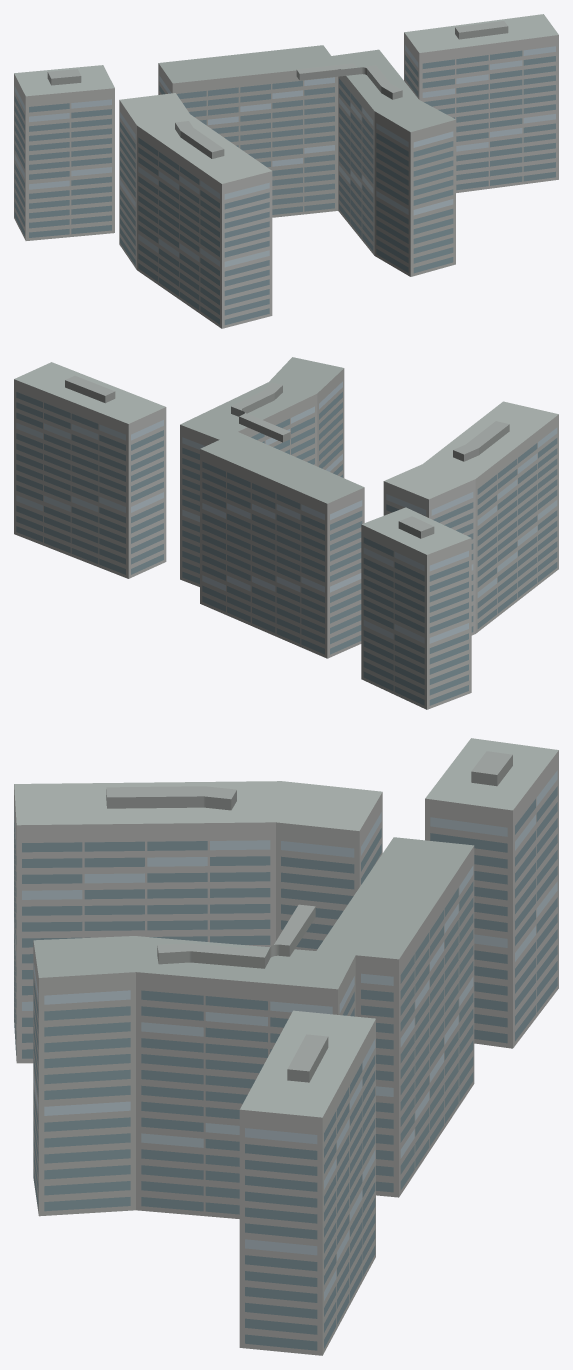
The model's file is apt-a13924004.glb.
The picture shows the model from 3 angles, top to bottom: view 1: azimuth 30°, elevation 25°; view 2: azimuth 150°, elevation 25°; view 3: azimuth 270°, elevation 25°; orthographic projection. The views are drawn at different scales.
Parts seen in each view (by area): view 1: apt-a13924004; view 2: apt-a13924004; view 3: apt-a13924004.
Part boxes in pixels (left/top/right/bottom): apt-a13924004: left=14, top=14, right=558, bottom=328; apt-a13924004: left=14, top=357, right=558, bottom=709; apt-a13924004: left=14, top=738, right=558, bottom=1355.
Bounding box in the file's own units: 137 × 42 × 83.16.
